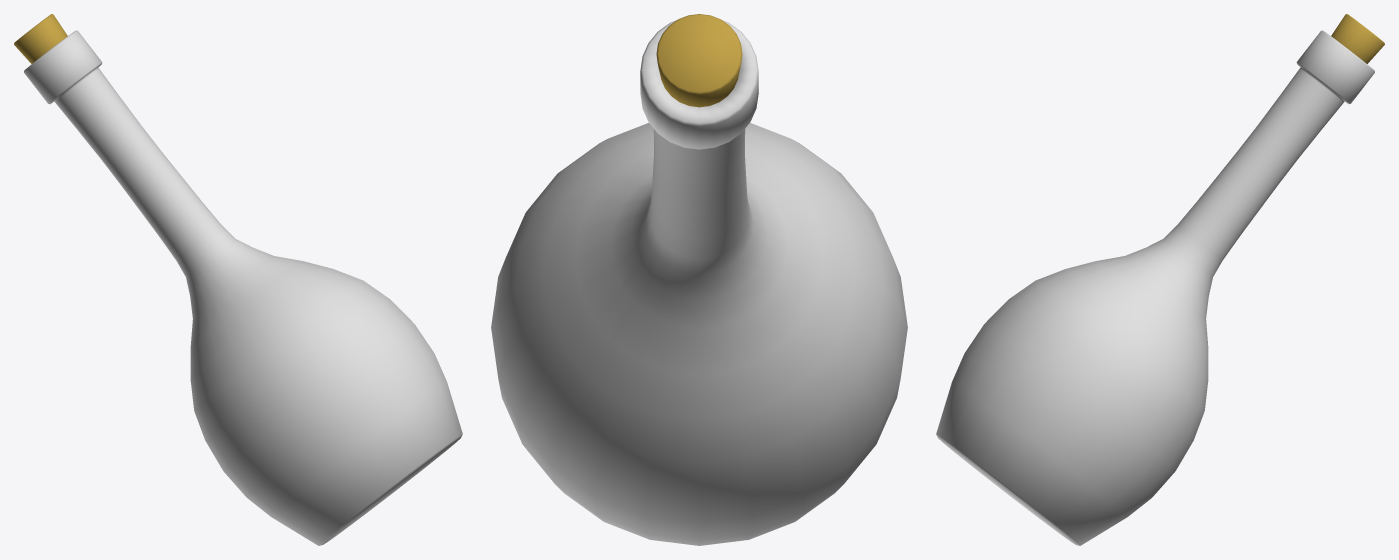
File: PotionThin.fbx
3 views of the same model, side by side, from view 1: azimuth 30°, elevation 25°; view 2: azimuth 150°, elevation 25°; view 3: azimuth 270°, elevation 25° (orthographic). The views are drawn at different scales.
Parts seen in each view (by area): view 1: PotionThin.003; view 2: PotionThin.003; view 3: PotionThin.003.
Part boxes in pixels (x1=…): PotionThin.003: x1=14, y1=14, x2=462, y2=545; PotionThin.003: x1=491, y1=14, x2=907, y2=545; PotionThin.003: x1=936, y1=14, x2=1384, y2=545.
Bounding box in the file's own units: 86.06 × 135 × 123.
